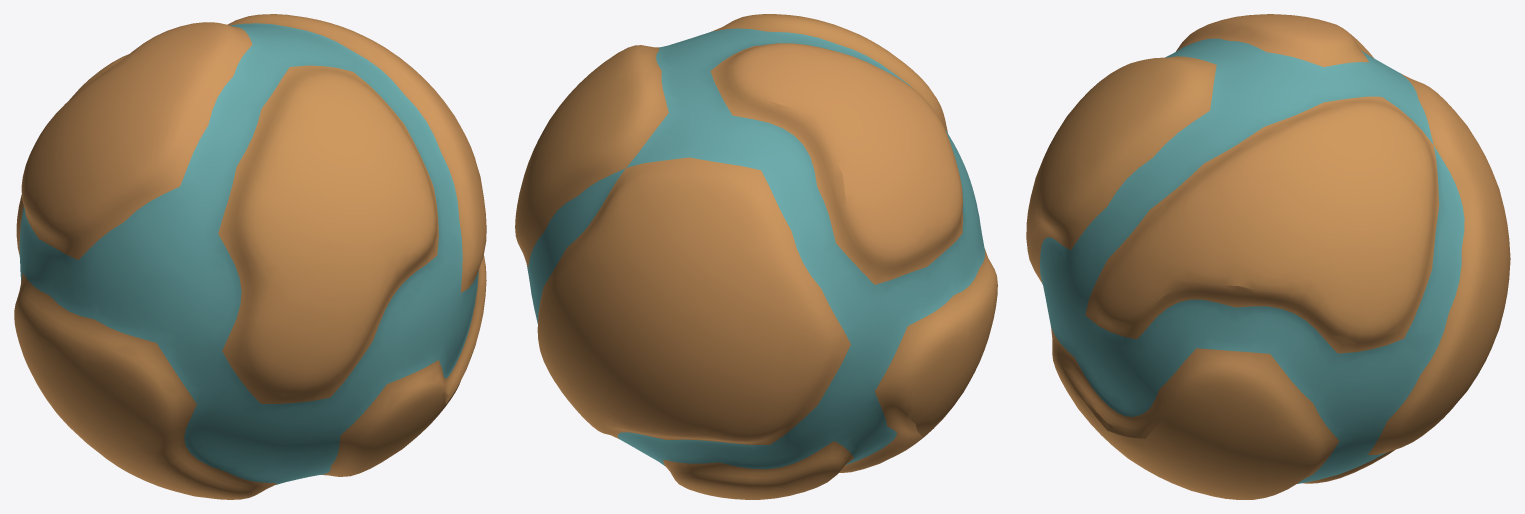
Rendered from red_orb.glb.
The picture shows the model from 3 angles, left to right: view 1: azimuth 30°, elevation 25°; view 2: azimuth 150°, elevation 25°; view 3: azimuth 270°, elevation 25°; orthographic projection.
Parts seen in each view (by area): view 1: Planet_2; view 2: Planet_2; view 3: Planet_2.
Boxes of the visible parts, x1,y1,x2,y2 form: Planet_2: (14, 14, 486, 499); Planet_2: (515, 14, 997, 499); Planet_2: (1026, 14, 1510, 499).
Size of the model in its own units: 3.81 by 3.83 by 3.85.
Materials: 1 (1 with a texture image).
